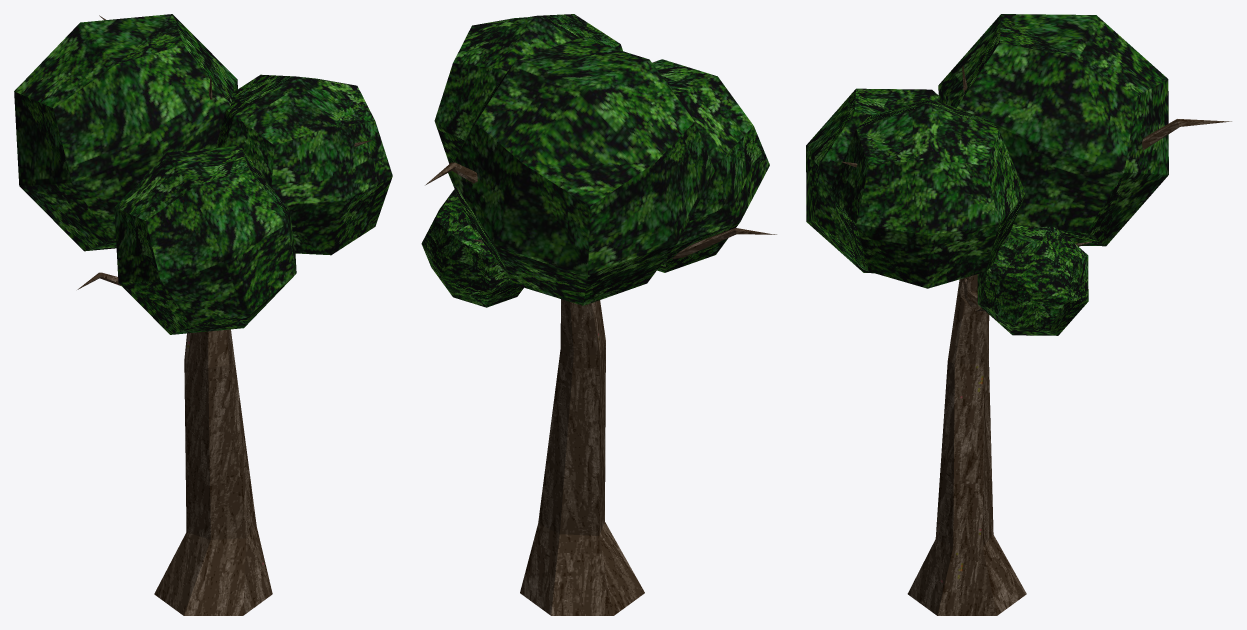
The model's file is ShadowTree.fbx.
3 renders of one model, left to right at view 1: azimuth 30°, elevation 25°; view 2: azimuth 150°, elevation 25°; view 3: azimuth 270°, elevation 25°, orthographic. The views are drawn at different scales.
Visible parts, largest first — view 1: Cube.001, Cube.002, Cube, Cylinder; view 2: Cube.001, Cylinder, Cube.002, Cube, Cube.003; view 3: Cube.001, Cube, Cylinder, Cube.003, Cube.002.
Boxes of the visible parts, x1,y1,x2,y2 form: Cube.001: (14, 14, 237, 251); Cube.002: (114, 146, 296, 334); Cube: (216, 74, 392, 255); Cylinder: (77, 15, 371, 615); Cube.001: (448, 38, 714, 305); Cylinder: (425, 162, 776, 615); Cube.002: (652, 59, 769, 272); Cube: (434, 14, 622, 163); Cube.003: (421, 189, 523, 307); Cube.001: (938, 14, 1168, 246); Cube: (829, 99, 1025, 288); Cylinder: (841, 65, 1231, 615); Cube.003: (977, 225, 1088, 335); Cube.002: (806, 88, 940, 273).
Bounding box in the file's own units: 600 × 1007 × 715.
5 materials, 5 textured.
